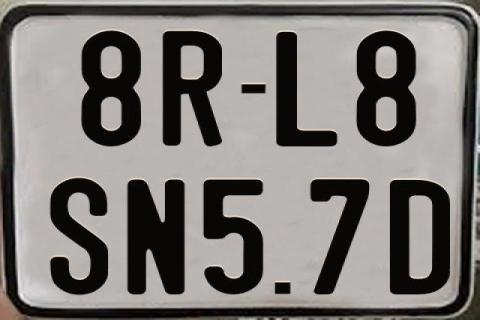0: (202, 179, 266, 295), (356, 28, 417, 149), (78, 30, 139, 150), (310, 177, 371, 297)
D: (387, 180, 452, 298)
L: (274, 32, 341, 151)
N: (127, 180, 188, 298)
R: (161, 31, 226, 147)
S: (48, 176, 111, 297)
